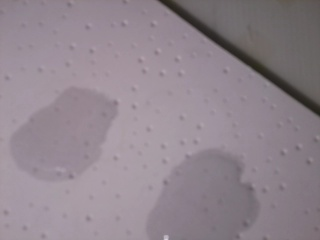Water_detected: (25, 101, 105, 170), (158, 165, 218, 236)
